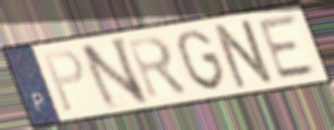E: (255, 12, 321, 82)
G: (174, 27, 229, 93)
N: (76, 34, 152, 113), (211, 16, 279, 92)
P: (40, 47, 88, 115)
R: (123, 33, 192, 103)
